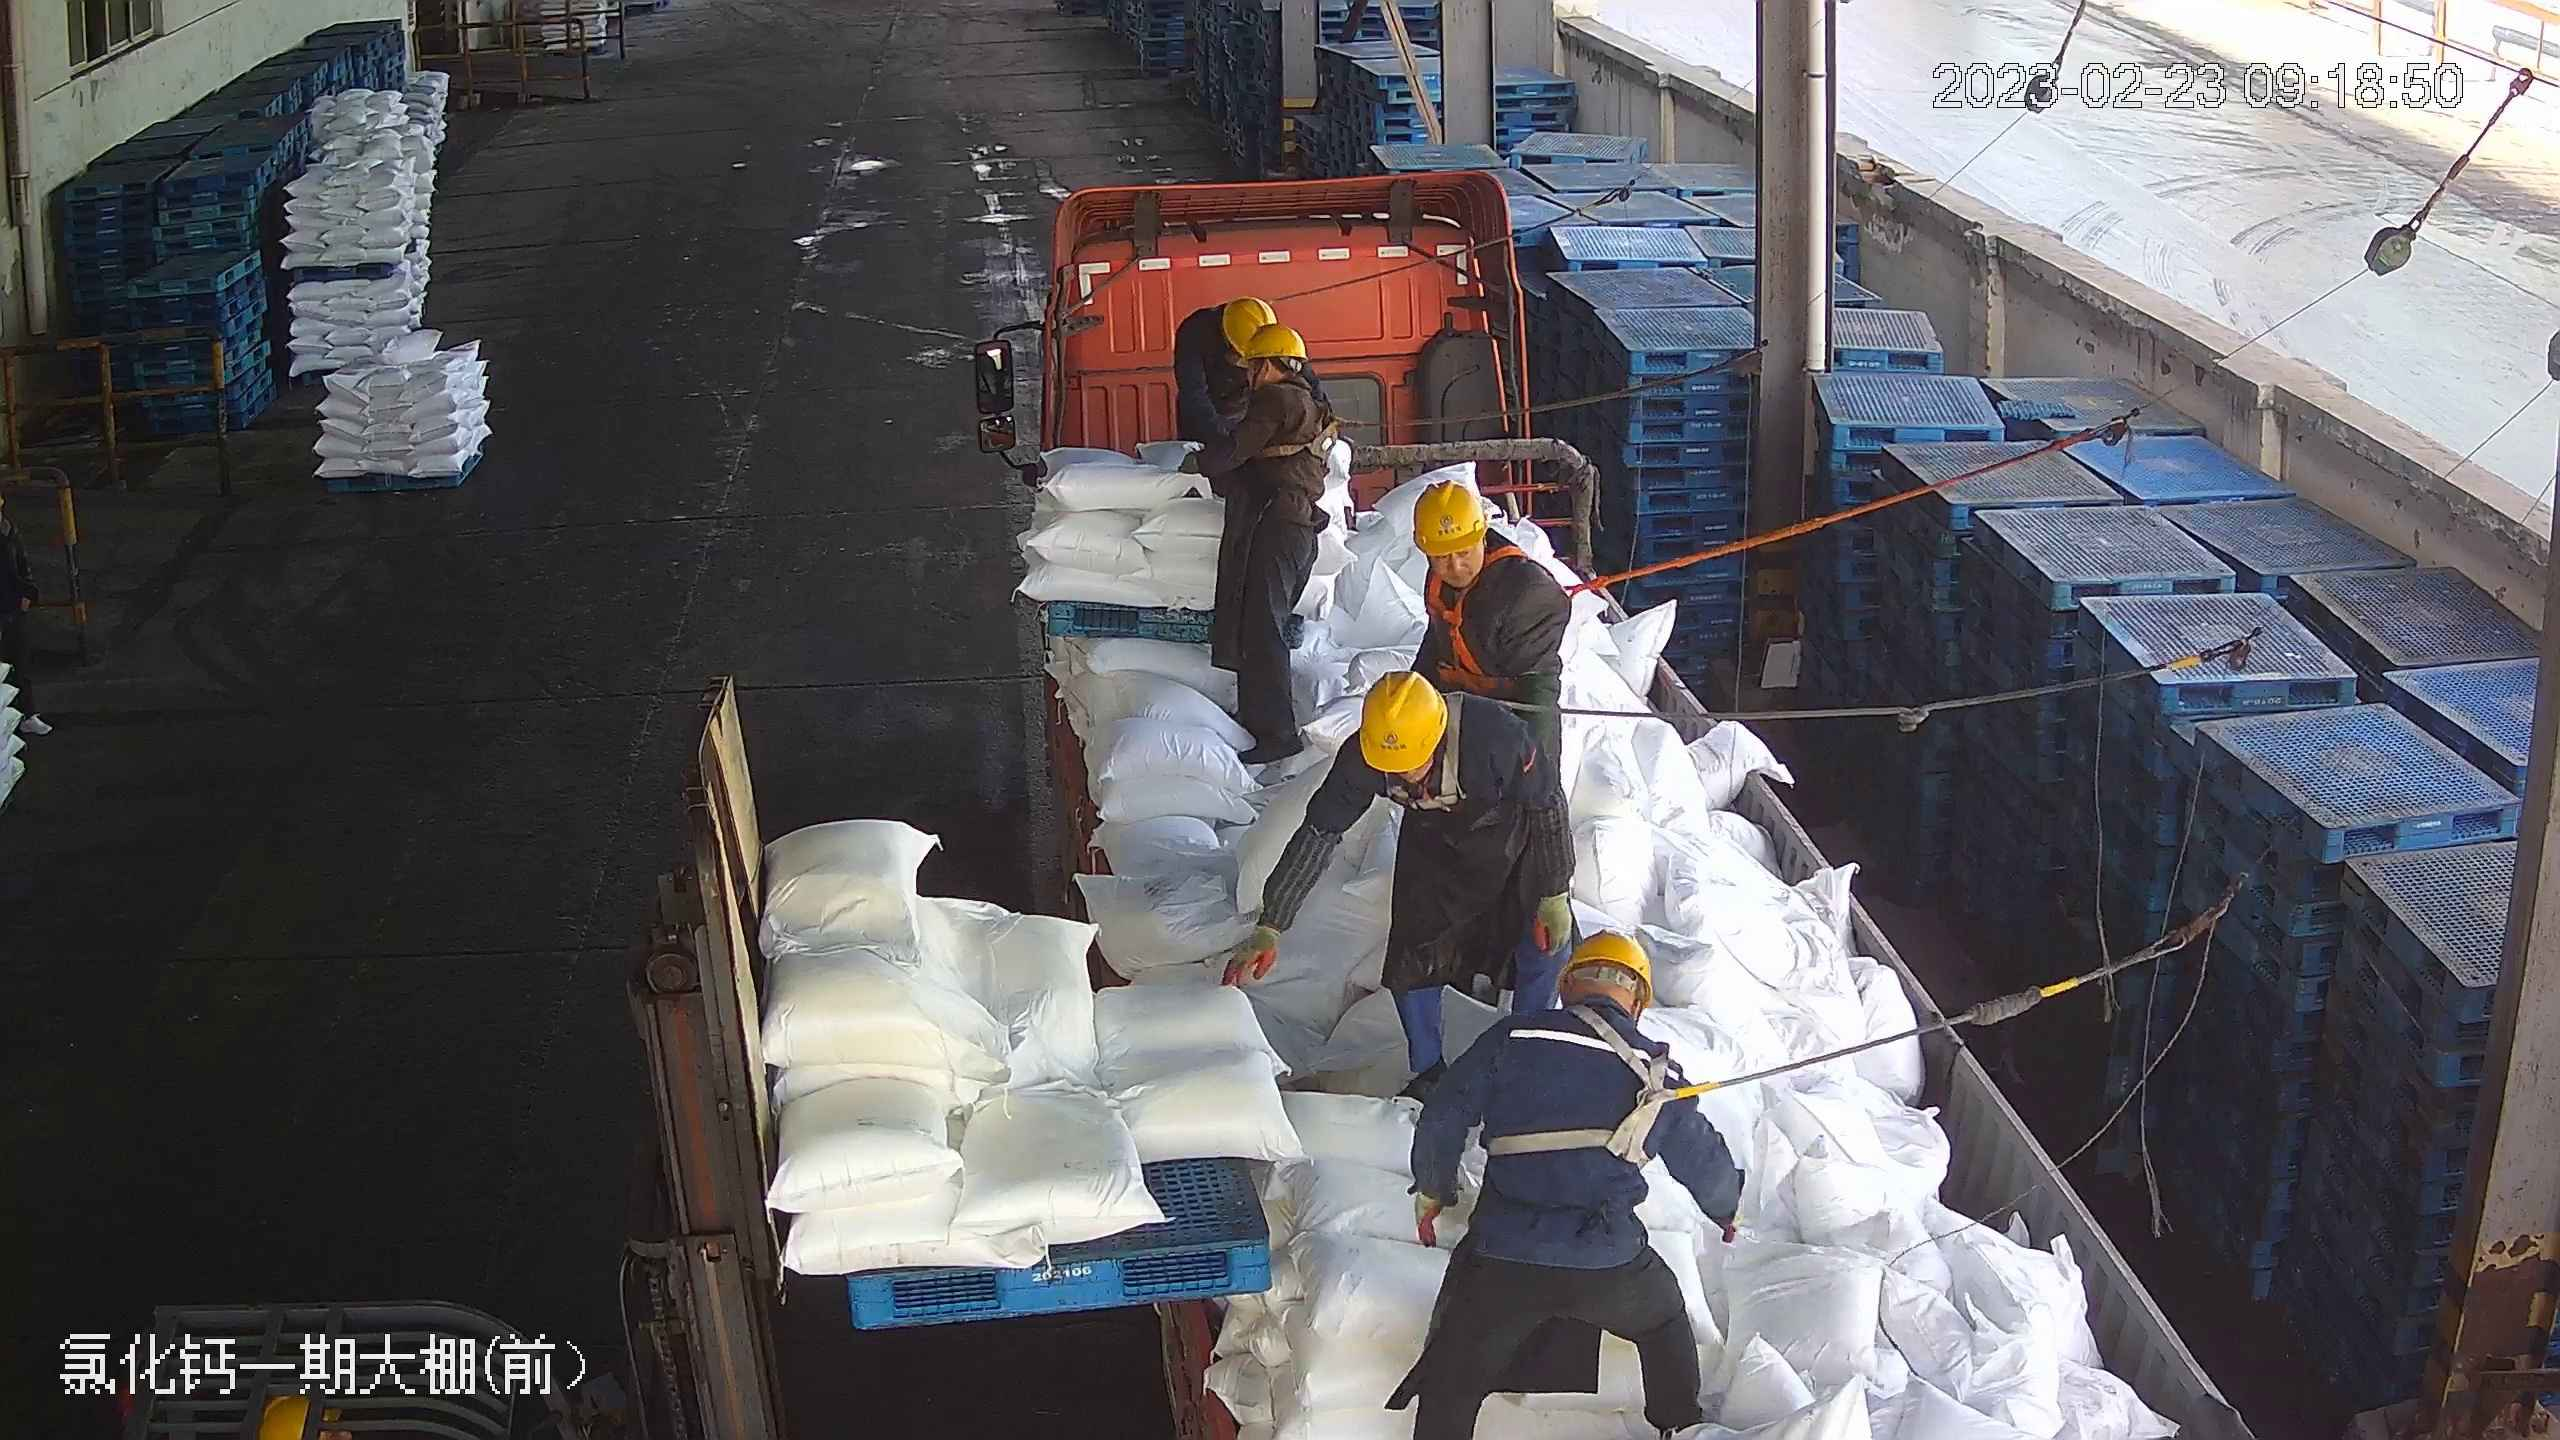belt: (1502, 1002, 1720, 1169), (1425, 549, 1605, 681), (1386, 690, 1544, 802), (1253, 376, 1348, 461)
head: (1465, 924, 1689, 1110), (1408, 480, 1558, 637), (1354, 673, 1526, 805), (1231, 320, 1335, 432), (1190, 292, 1278, 360)
helmet: (1359, 670, 1445, 772), (1553, 926, 1652, 1008), (1411, 481, 1488, 555), (1215, 292, 1267, 341)
people: (1392, 921, 1733, 1440), (1214, 678, 1586, 1042), (1185, 319, 1333, 761), (1395, 479, 1579, 767), (1175, 286, 1285, 460)
truck: (977, 157, 2254, 1434)
